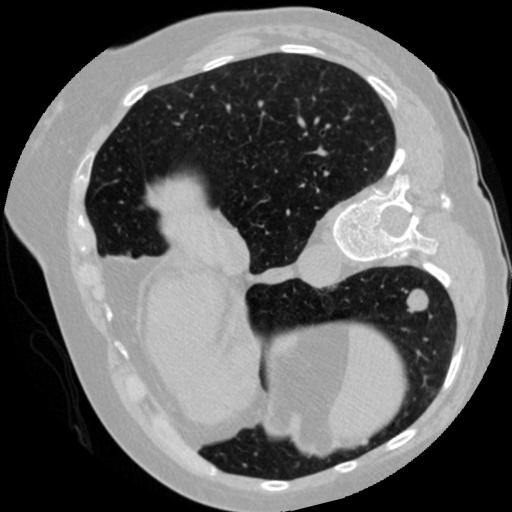nodule: (401, 283, 434, 316)
